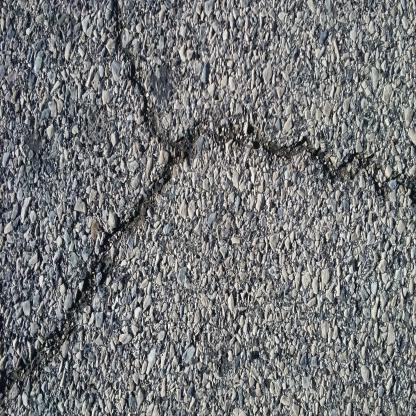Cracks: (109, 0, 415, 209), (0, 130, 201, 416)
